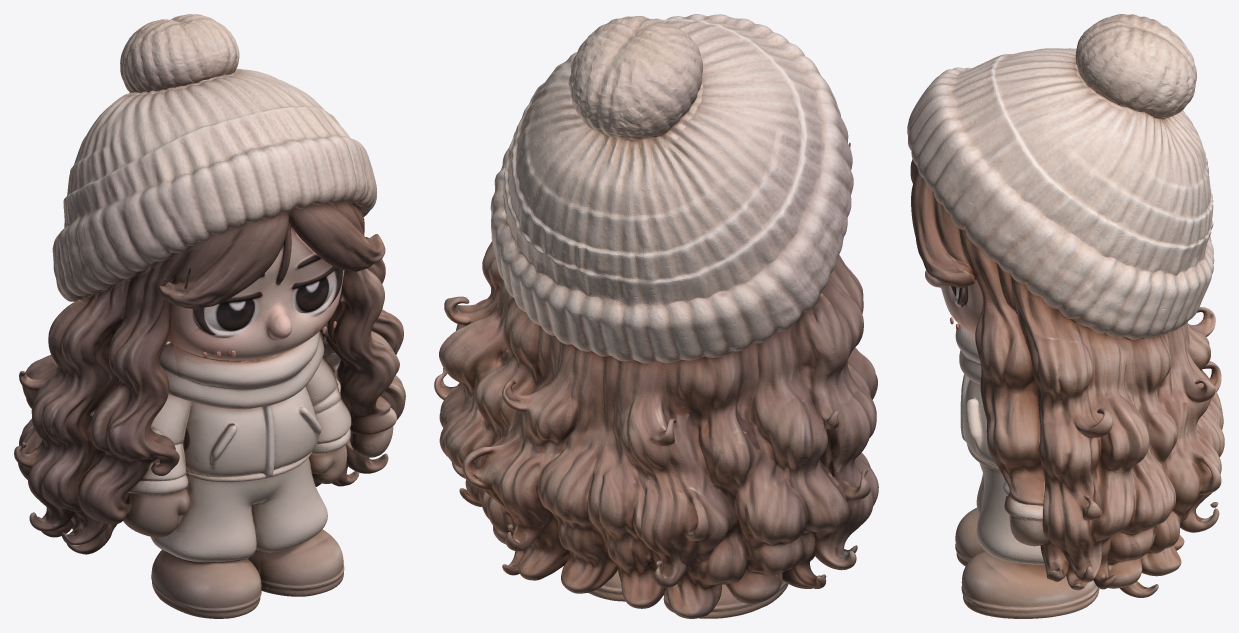
File: aurora_character_v121.glb
3 renders of one model, left to right at view 1: azimuth 30°, elevation 25°; view 2: azimuth 150°, elevation 25°; view 3: azimuth 270°, elevation 25°, orthographic. The views are drawn at different scales.
Visible parts, largest first — view 1: world; view 2: world; view 3: world.
Part boxes in pixels (x1,y1,x2,y2): world: (14, 14, 405, 618); world: (434, 14, 878, 618); world: (907, 14, 1224, 618).
Size of the model in its own units: 0.757 by 0.9999 by 0.5248.
1 material, 1 textured.
